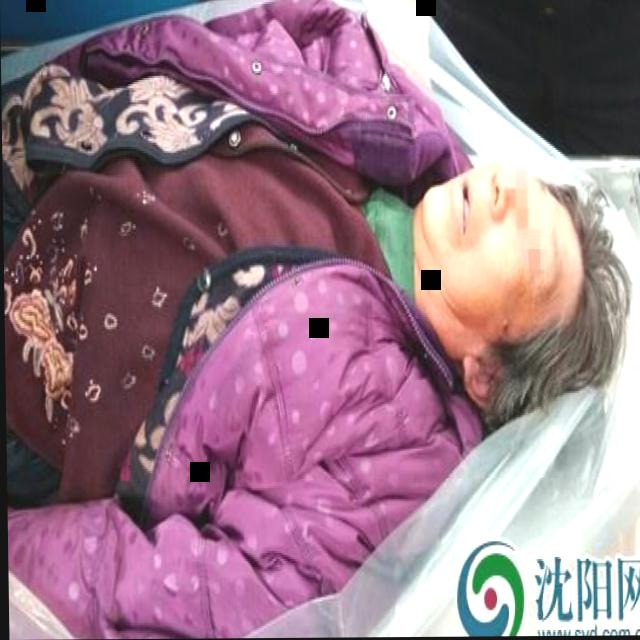Fall-Detected: (0, 0, 638, 640)
